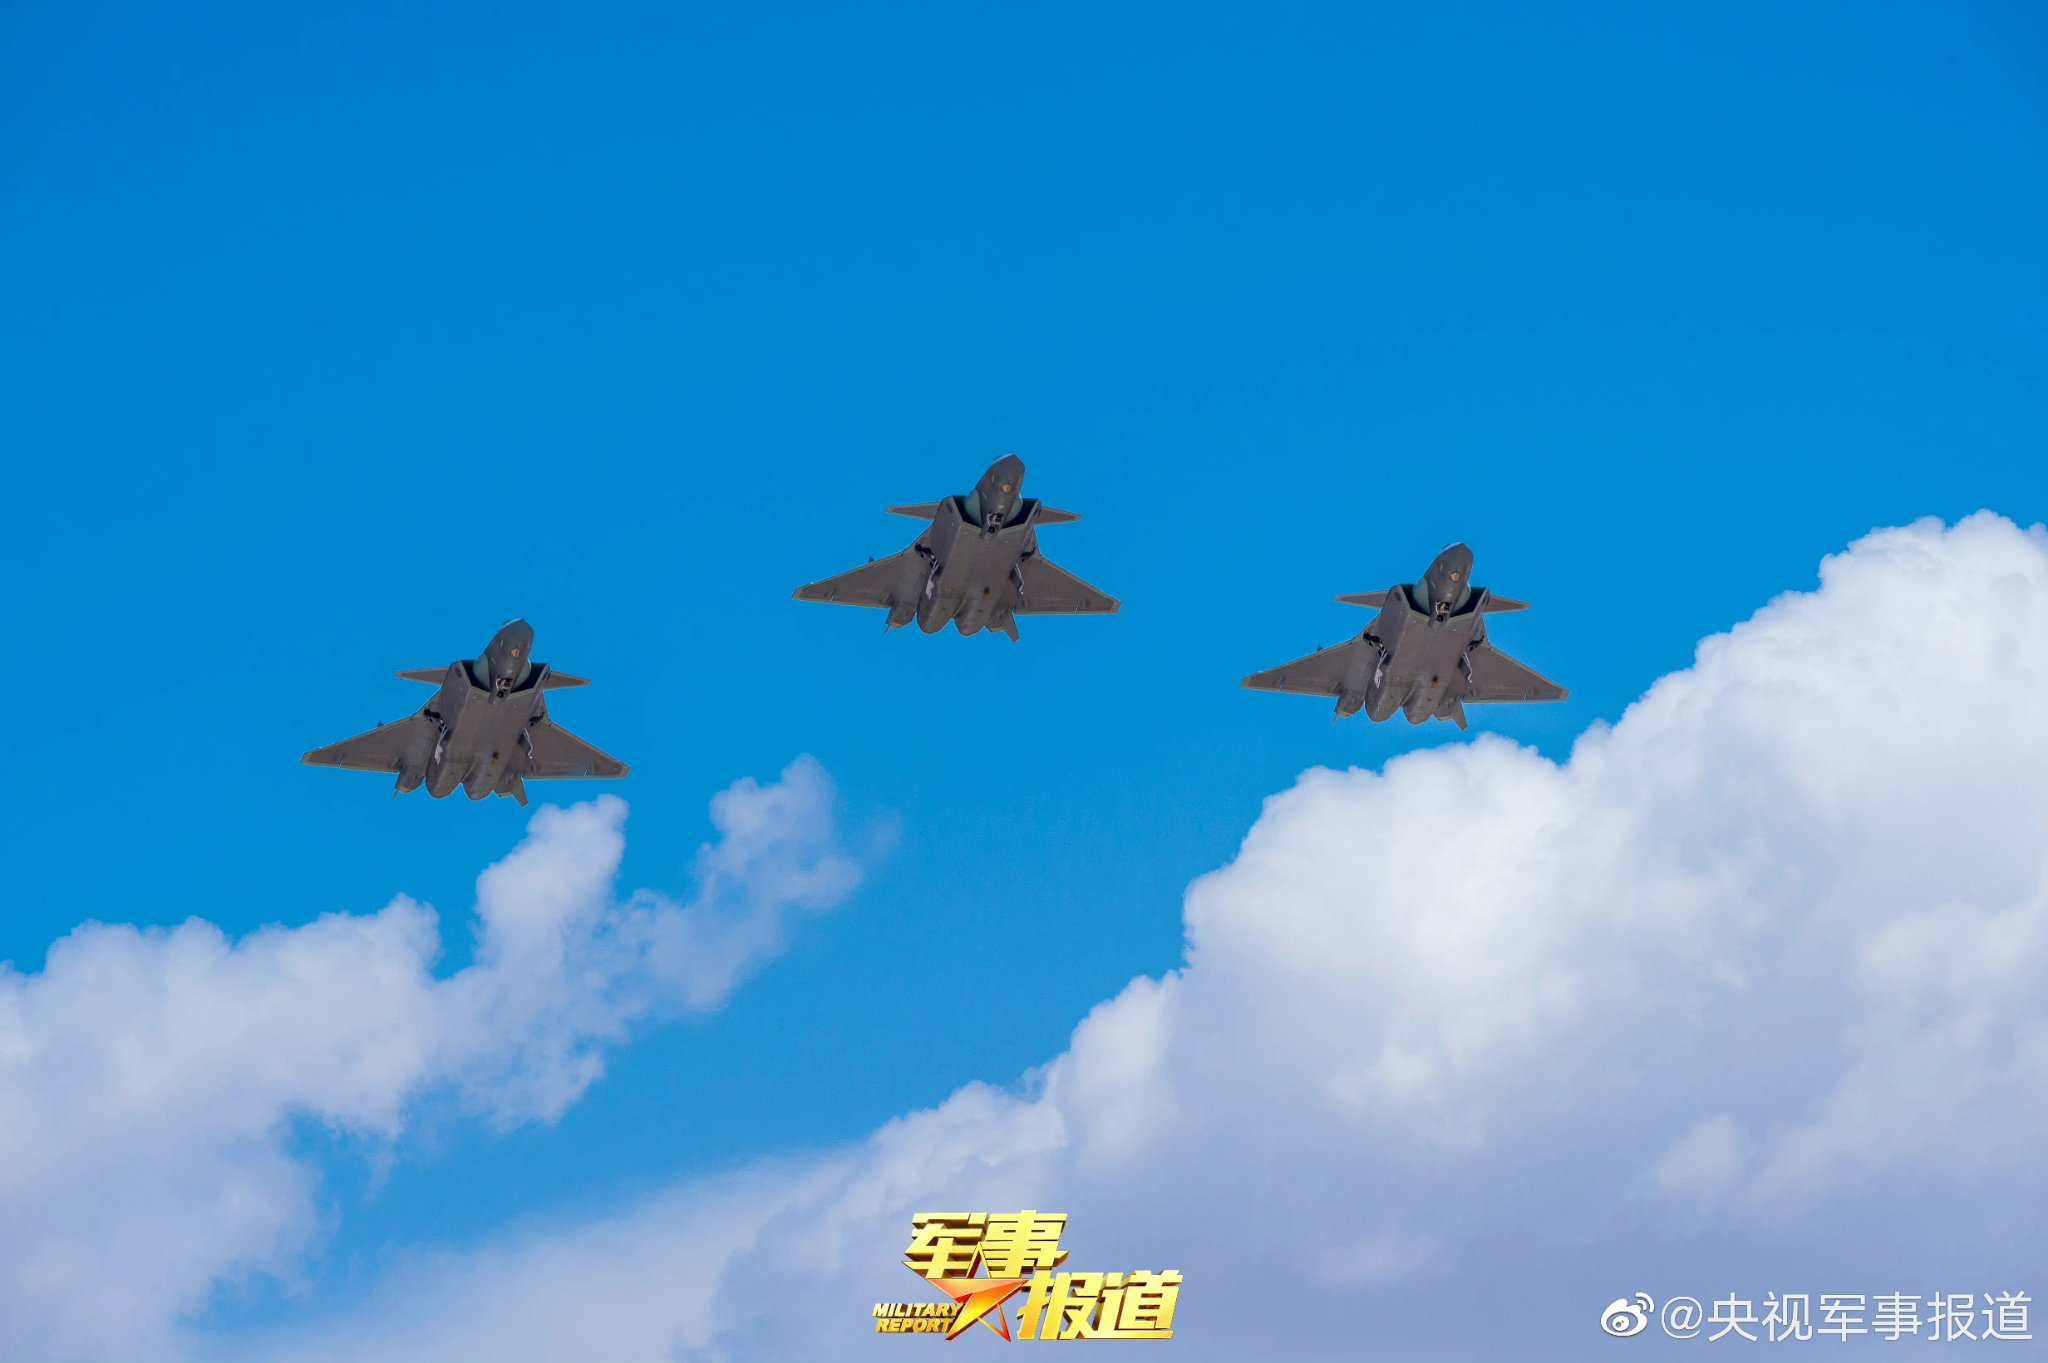J20: (1238, 542, 1571, 732), (791, 453, 1122, 643), (300, 618, 631, 808)
